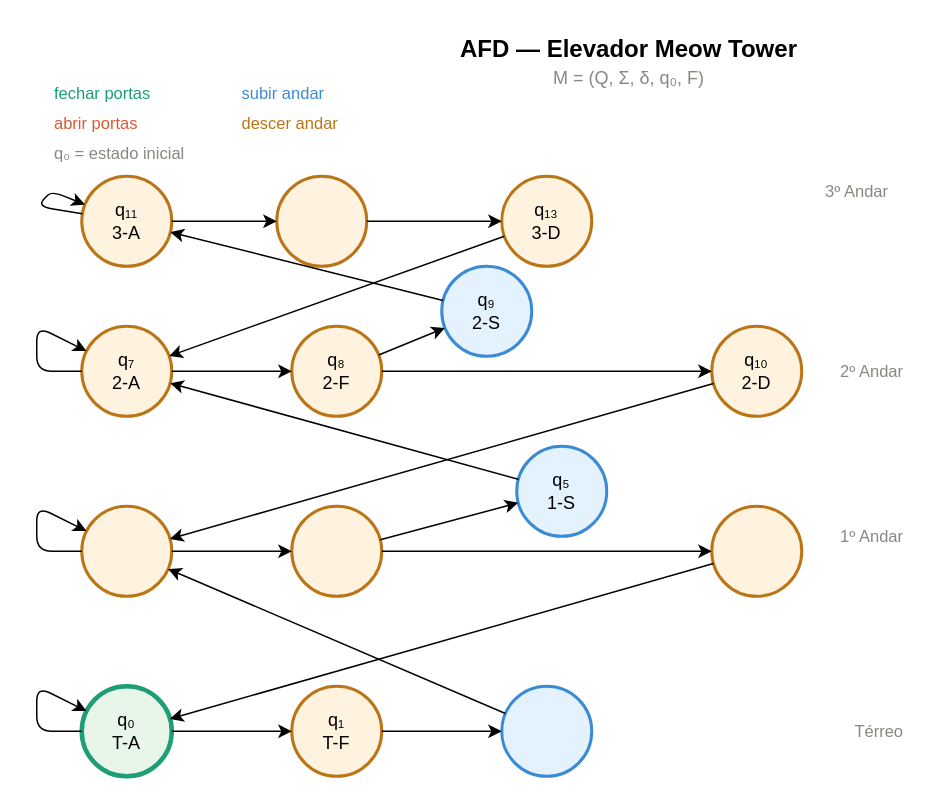
Image size: 933x804. Some labels were removed from this diagram. The shapes that lost their labels are listed below. From the top down, each one's centre as x and y in pixels, then its label:
At [321,220]: "q₁₂ 3-F".
At [126,550]: "q₃ 1-A".
At [336,550]: "q₄ 1-F".
At [756,550]: "q₆ 1-D".
At [546,730]: "q₂ T-S".
